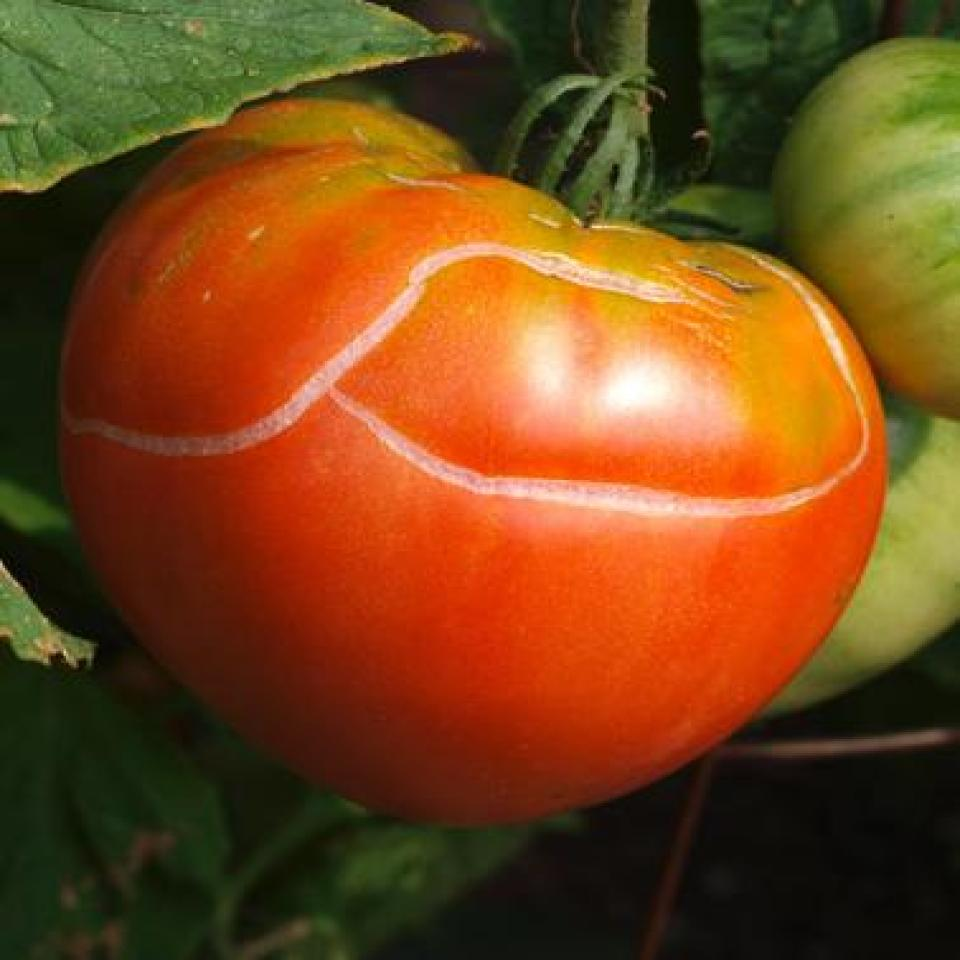Cracking: (60, 208, 886, 586)
